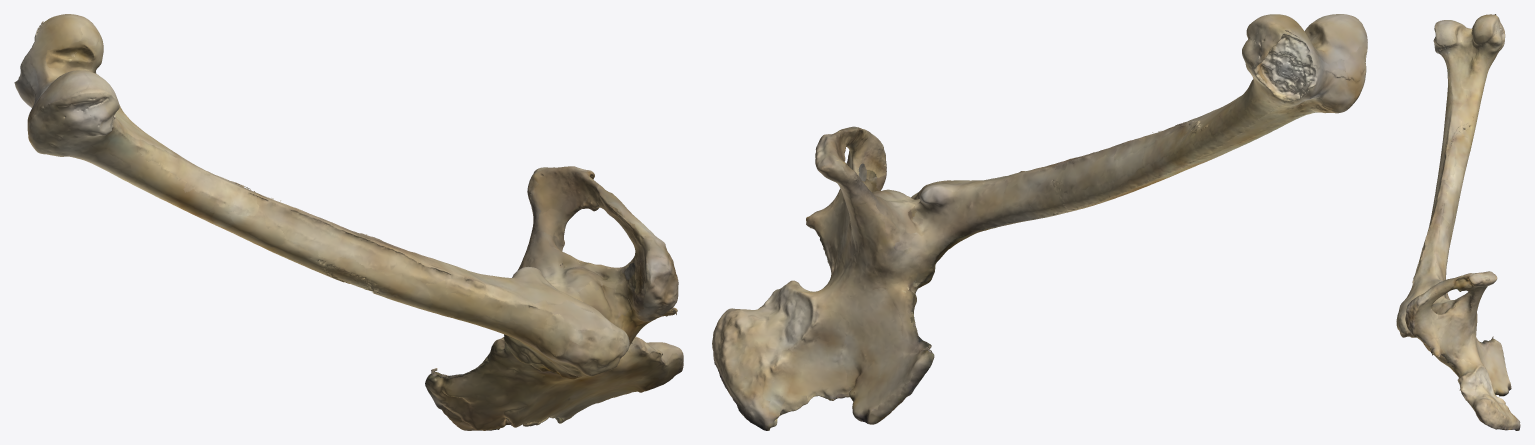
File: pelvis-web.glb
3 views of the same model, side by side, from view 1: azimuth 30°, elevation 25°; view 2: azimuth 150°, elevation 25°; view 3: azimuth 270°, elevation 25° (orthographic). The views are drawn at different scales.
Parts seen in each view (by area): view 1: Node; view 2: Node; view 3: Node.
Boxes of the visible parts, x1=… form: Node: x1=14, y1=14, x2=683, y2=430; Node: x1=712, y1=14, x2=1367, y2=430; Node: x1=1396, y1=14, x2=1520, y2=430.
Bounding box in the file's own units: 455 × 355 × 141.
1 material, 1 textured.
